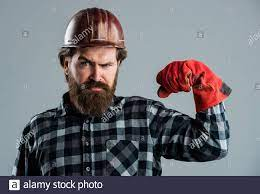Helmet: (57, 3, 138, 61)
No-jacket: (25, 96, 167, 190)
gloves: (155, 56, 227, 108)
